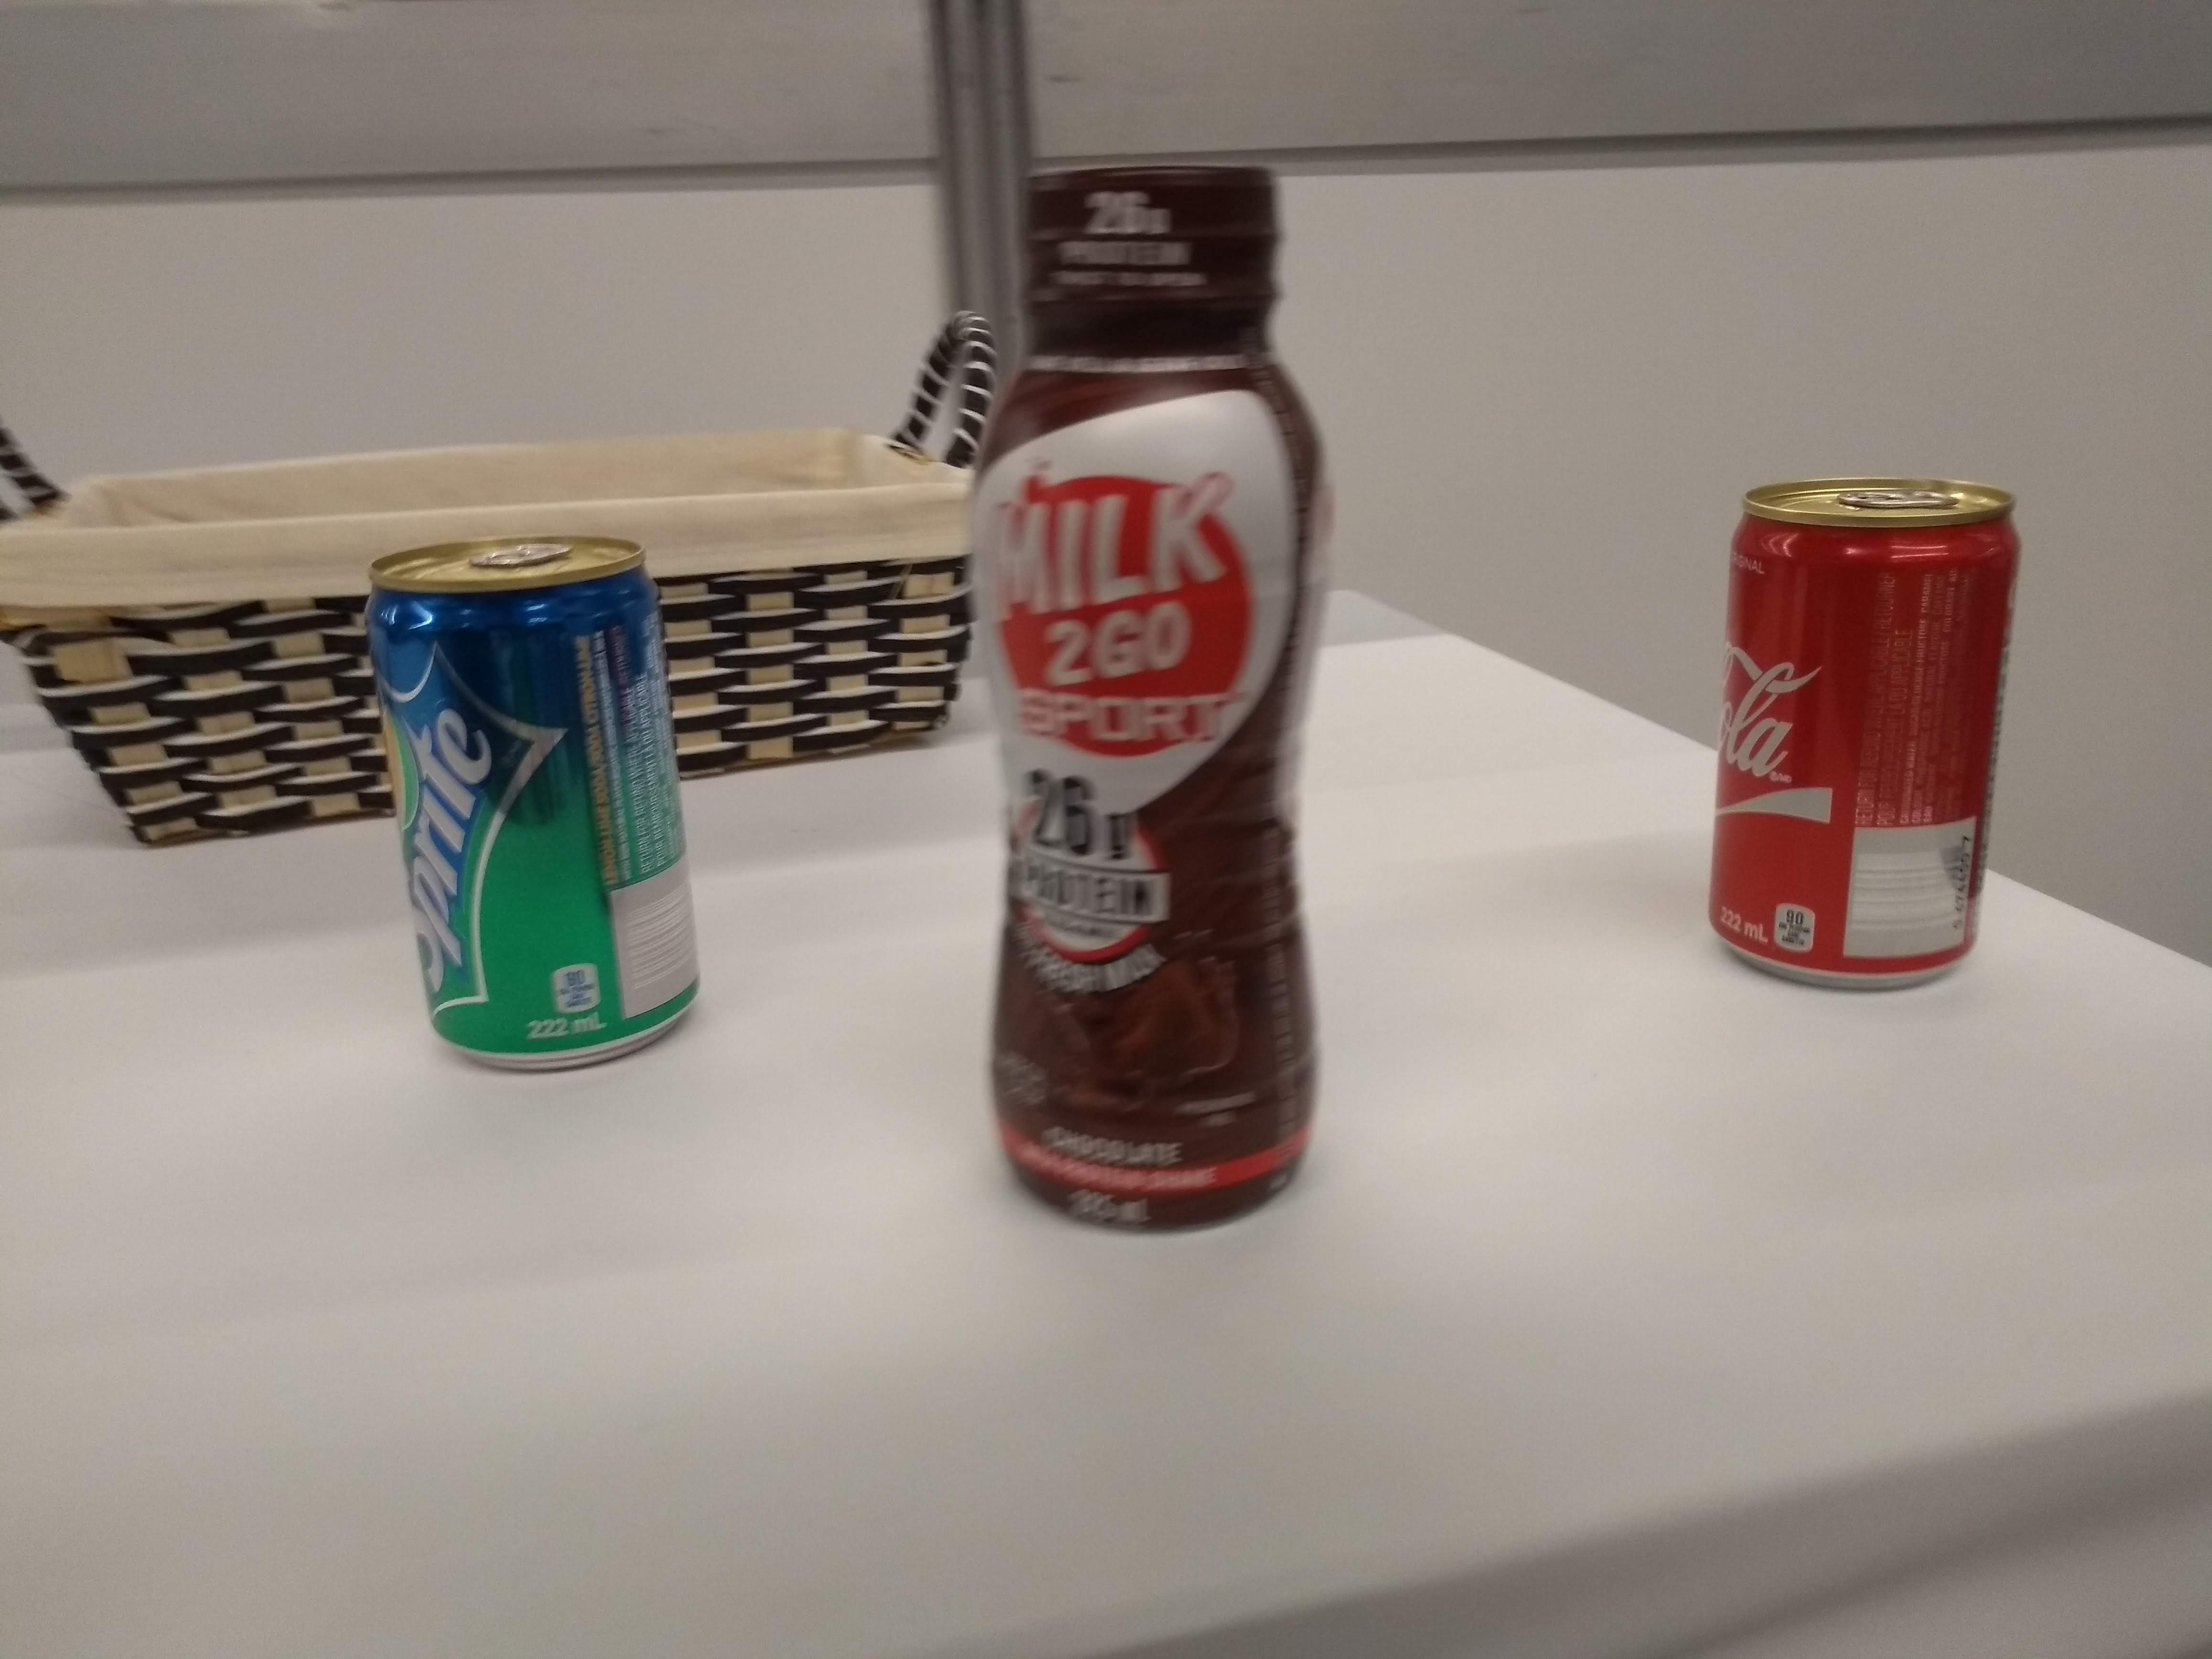chocolate_drink: (961, 157, 1343, 1249)
coke: (1696, 465, 2040, 999)
sprite: (359, 521, 723, 1084)
